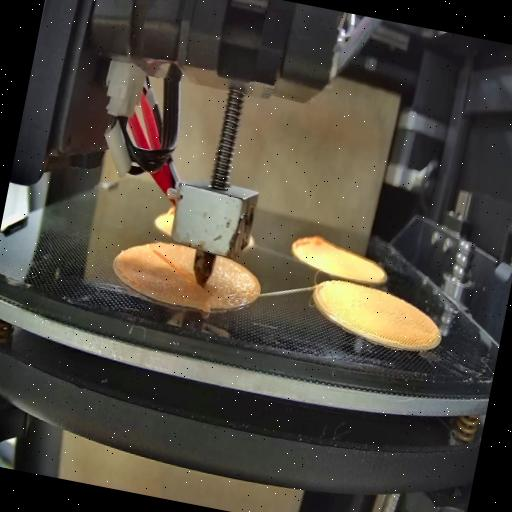over_extrusion: (144, 244, 196, 285), (288, 226, 330, 270), (164, 204, 175, 220)
